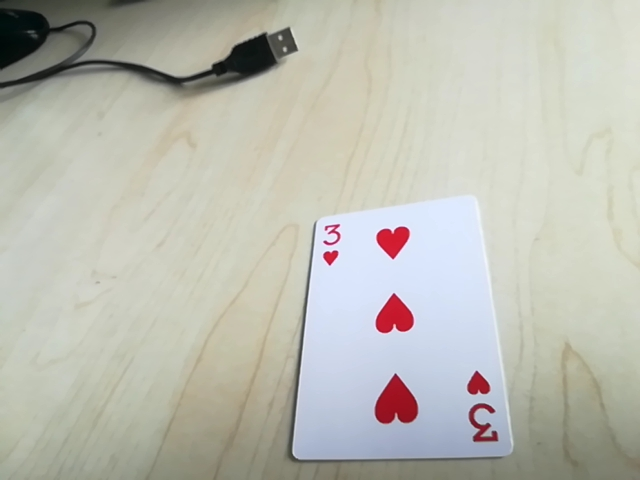hx 3: (459, 388, 503, 448), (316, 219, 353, 268)
